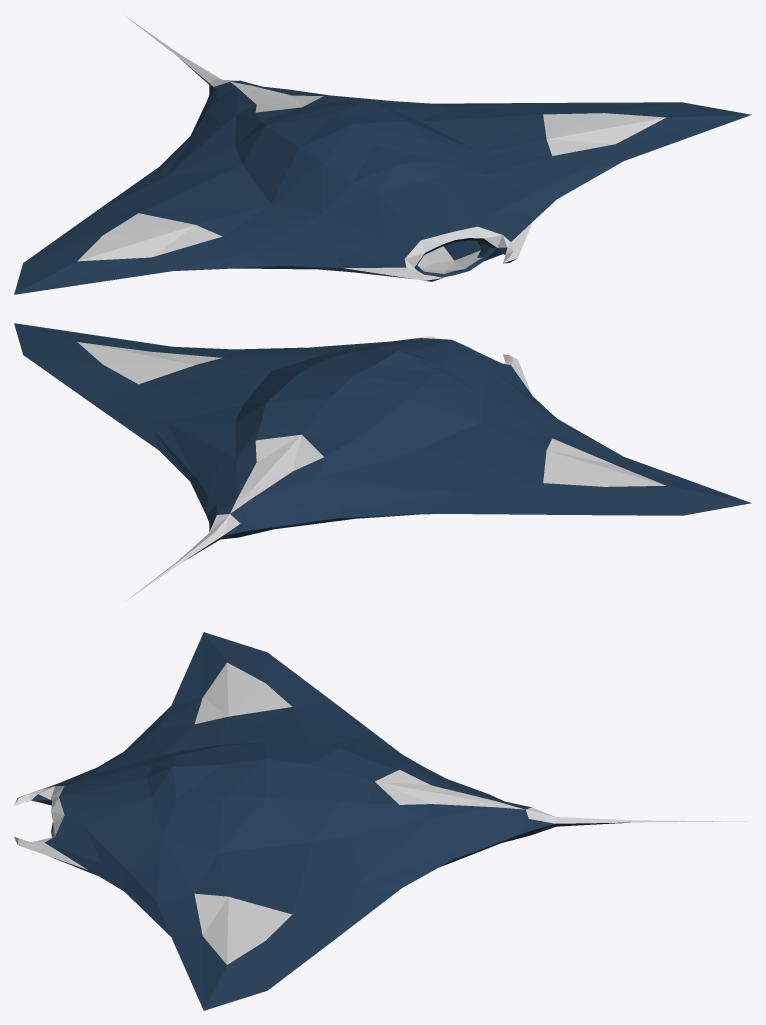
The model's file is RayShip.fbx.
3 renders of one model, top to bottom at view 1: azimuth 30°, elevation 25°; view 2: azimuth 150°, elevation 25°; view 3: azimuth 270°, elevation 25°, orthographic. The views are drawn at different scales.
Parts seen in each view (by area): view 1: RayShip; view 2: RayShip; view 3: RayShip.
Part boxes in pixels (box(x1,y1,x2,y2)): RayShip: box(14, 16, 751, 294); RayShip: box(14, 323, 751, 601); RayShip: box(14, 632, 747, 1010).
Size of the model in its own units: 720 by 101 by 593.
